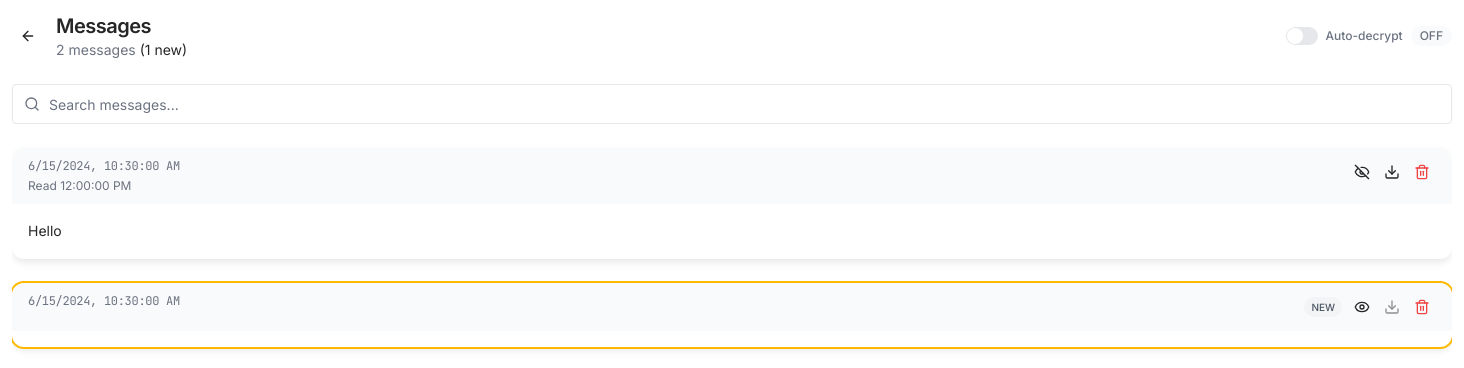
Test case: MessagesPage › excludes undecrypted messages from search
The width and height of the screenshot is (1464, 368).
Check: the text "2 messages" is shown, box top-left (56, 41), bottom-right (136, 58)
Type "Hello" into the field labelled "Search messages" at (732, 104), box top-left (12, 84), bottom-right (1452, 124)
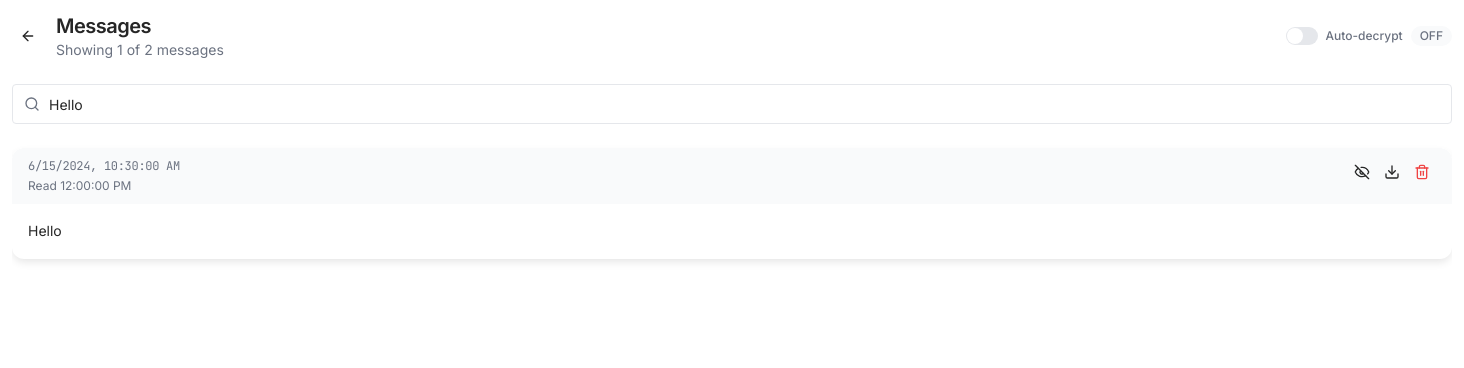
Check: the text "Showing 1 of 2 messages" is shown, box top-left (56, 40), bottom-right (224, 60)
